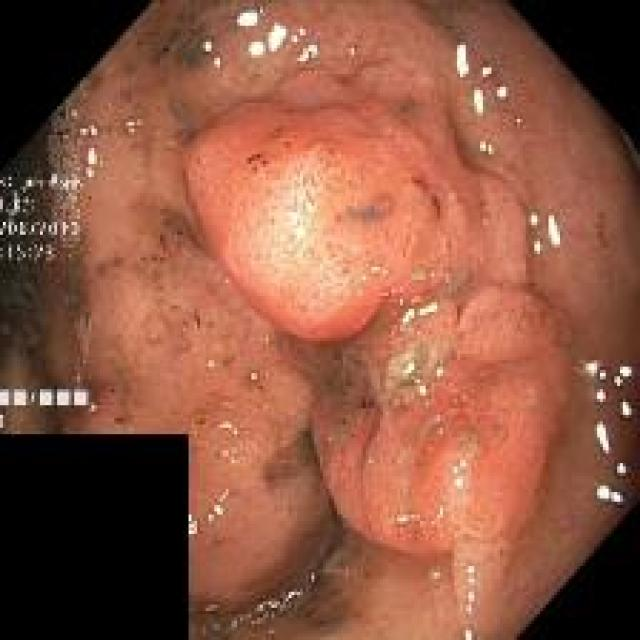Polyps: (188, 101, 525, 343), (289, 286, 564, 559)
